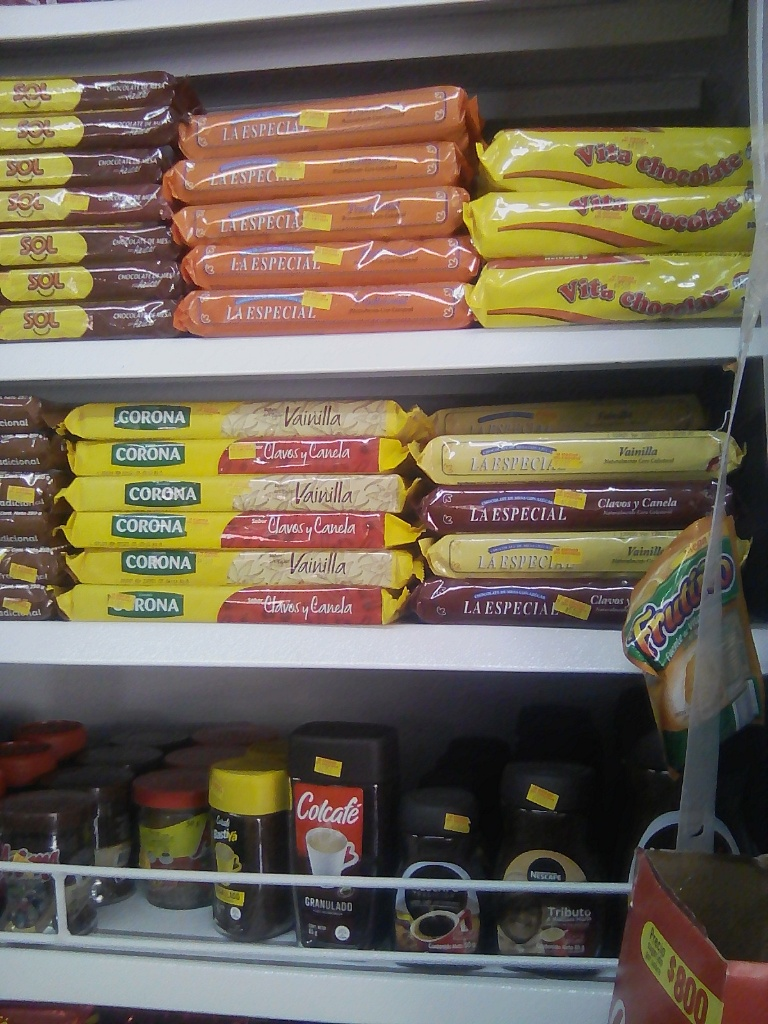COL0170103DYP1,500: (522, 2, 768, 435)
COL0170103DYP36000: (611, 584, 768, 969)
COL0170203LAT40000: (99, 233, 284, 419)
